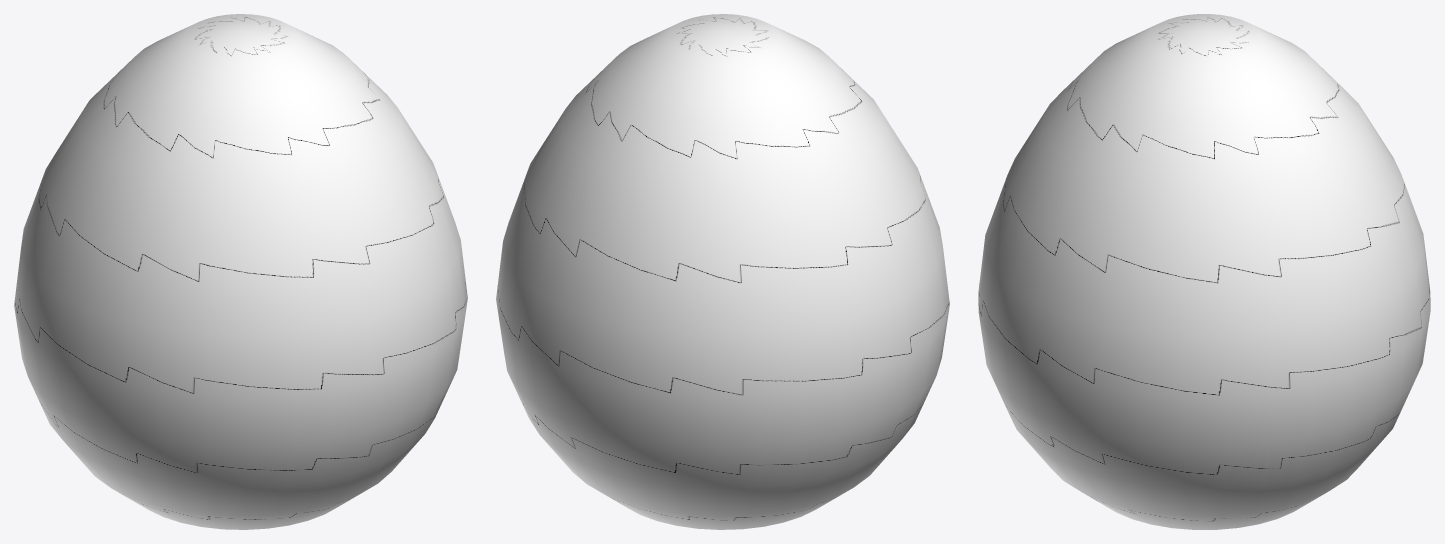
Rendered from The Whitnegg.gltf.
The picture shows the model from 3 angles, left to right: view 1: azimuth 30°, elevation 25°; view 2: azimuth 150°, elevation 25°; view 3: azimuth 270°, elevation 25°; orthographic projection.
Parts seen in each view (by area): view 1: EGG; view 2: EGG; view 3: EGG.
Boxes of the visible parts, box(x1,y1,x2,y2) form: EGG: box(14, 14, 467, 529); EGG: box(496, 14, 949, 529); EGG: box(978, 14, 1430, 529).
Size of the model in its own units: 1.9 by 2.21 by 1.9.
Materials: 1 (1 with a texture image).
